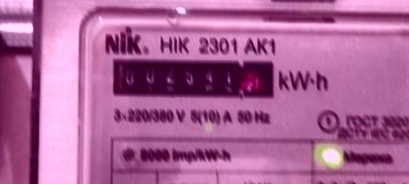0: (124, 63, 137, 84), (145, 61, 157, 83)
1: (224, 64, 235, 84)
2: (165, 63, 177, 83)
4: (205, 63, 217, 84)
5: (184, 62, 196, 85)
6: (245, 77, 257, 92)
screen: (103, 48, 286, 106)
